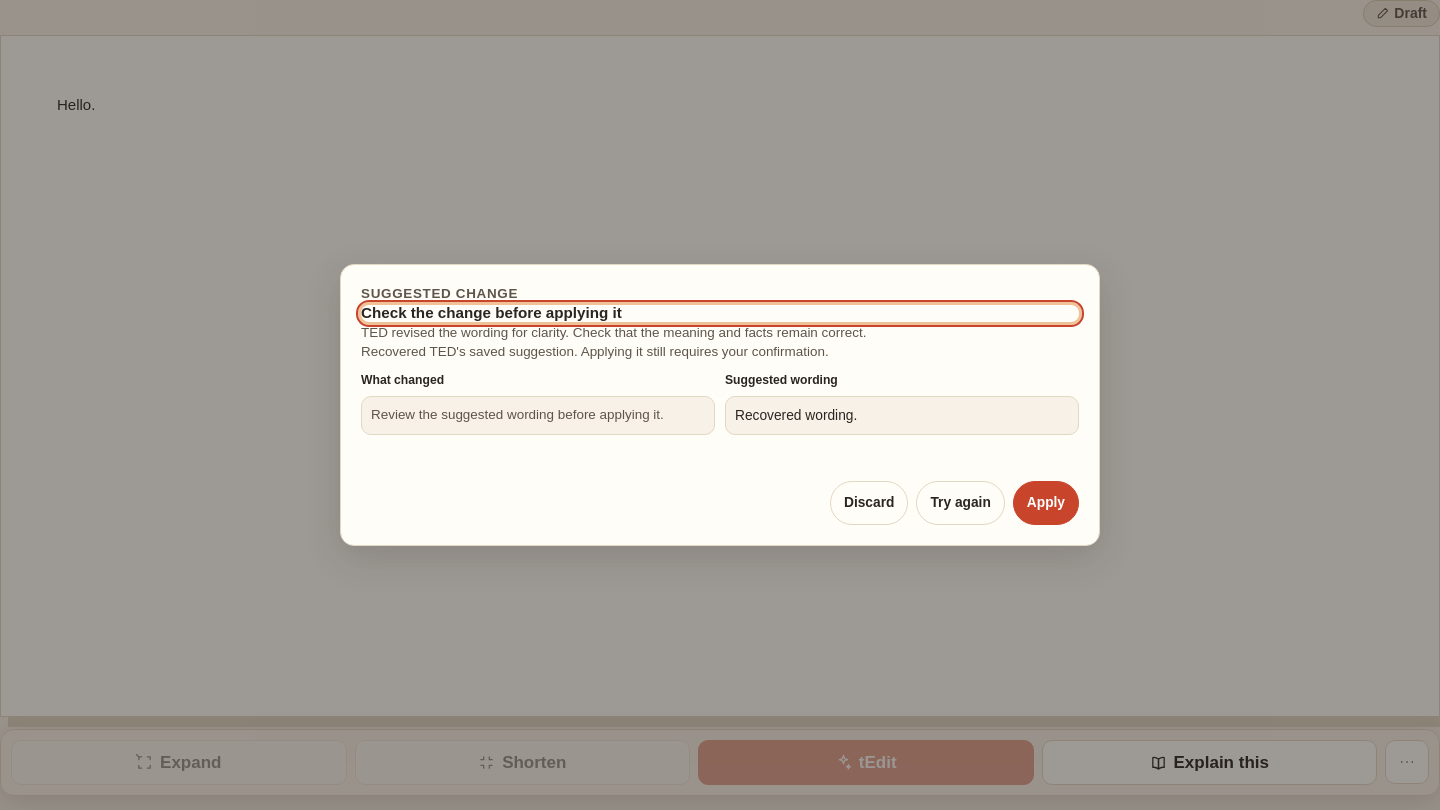
SectionEditor revision-bound TED edits › recovers a ready section suggestion and persists explicit discard
Expected: the text "Recovered wording." is shown, [725,396,1079,435]
Expected: the message shows "Recovered TED's saved suggestion", [361,344,829,359]
Click the button "Discard".
click(869, 503)  # box [830,481,908,525]
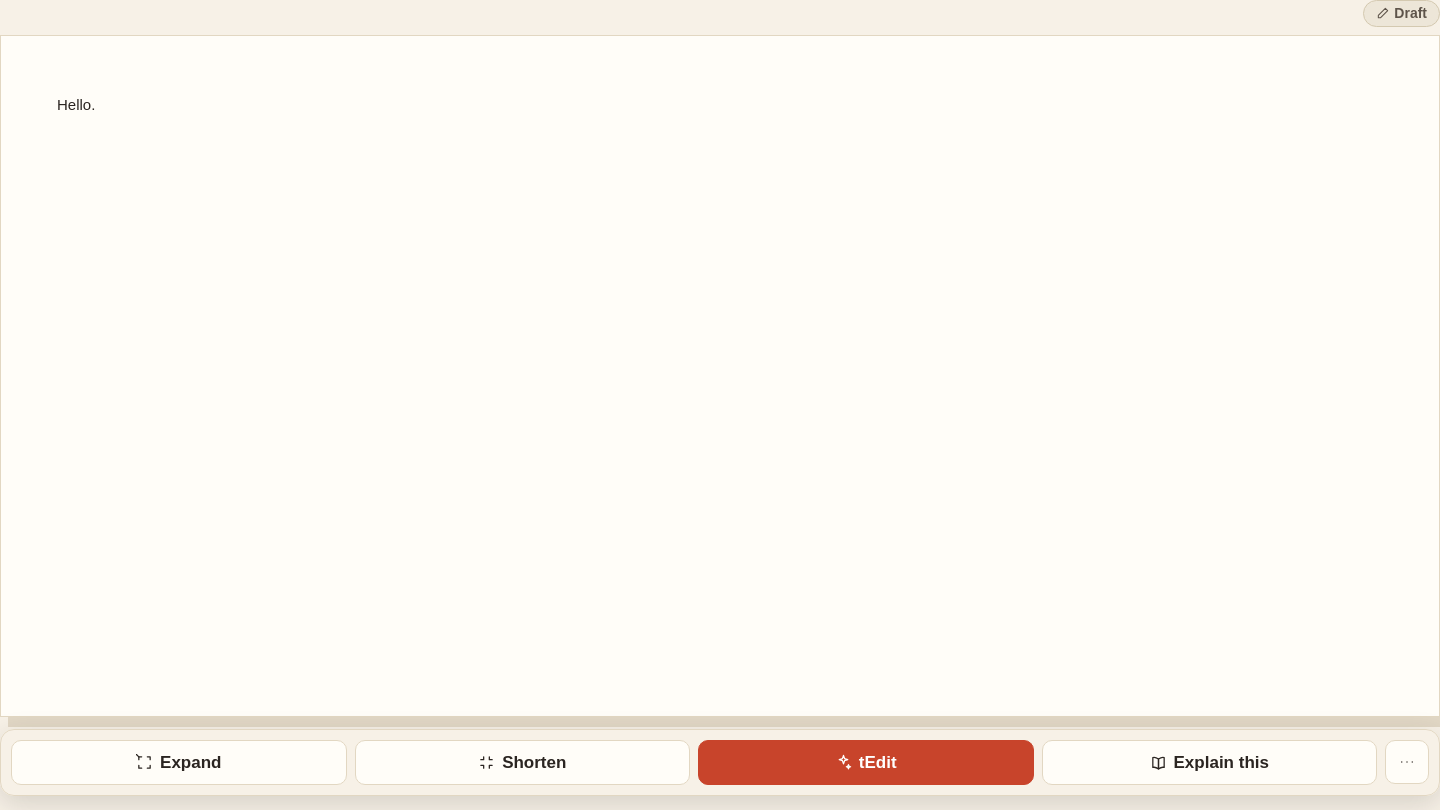
Expected: the text "Recovered wording." is gone
